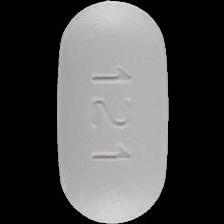61919-540: (0, 0, 224, 224)
